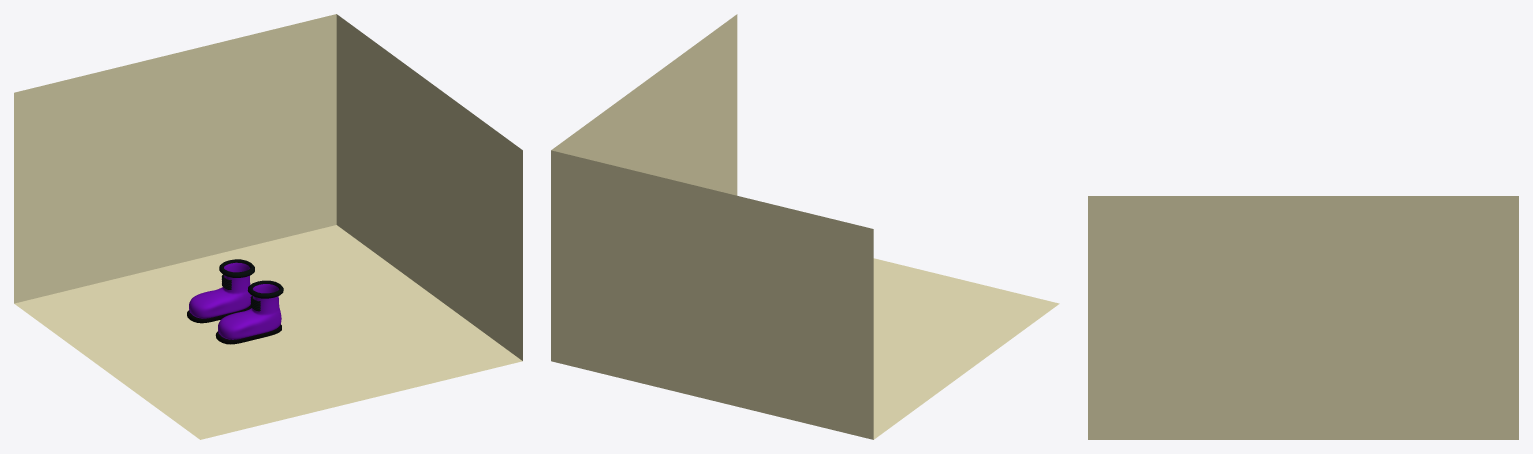
Rendered from shoes.fbx.
3 views of the same model, side by side, from view 1: azimuth 30°, elevation 25°; view 2: azimuth 150°, elevation 25°; view 3: azimuth 270°, elevation 25° (orthographic). The views are drawn at different scales.
Visible parts, largest first — view 1: Plane, Cube; view 2: Plane; view 3: Plane.
Boxes of the visible parts, x1,y1,x2,y2 form: Plane: [14, 14, 522, 439]; Cube: [187, 259, 283, 344]; Plane: [551, 14, 1059, 439]; Plane: [1088, 196, 1518, 439].
Size of the model in its own units: 2559 by 1599 by 2559.
